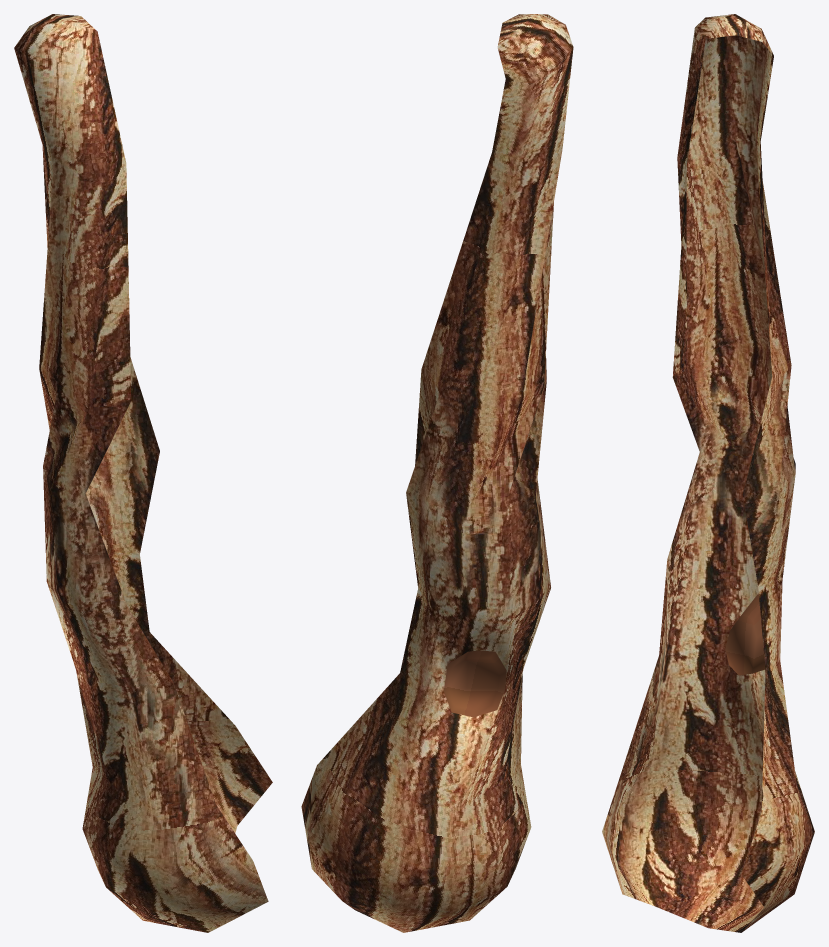
File: treeTexPrac.glb
3 renders of one model, left to right at view 1: azimuth 30°, elevation 25°; view 2: azimuth 150°, elevation 25°; view 3: azimuth 270°, elevation 25°, orthographic. The views are drawn at different scales.
Parts seen in each view (by area): view 1: appleTree; view 2: appleTree; view 3: appleTree.
Part boxes in pixels (<box>): appleTree: <box>14,14,272,932</box>; appleTree: <box>301,14,573,932</box>; appleTree: <box>602,14,814,932</box>.
Bounding box in the file's own units: 2.57 × 8.86 × 2.
Materials: 1 (1 with a texture image).
